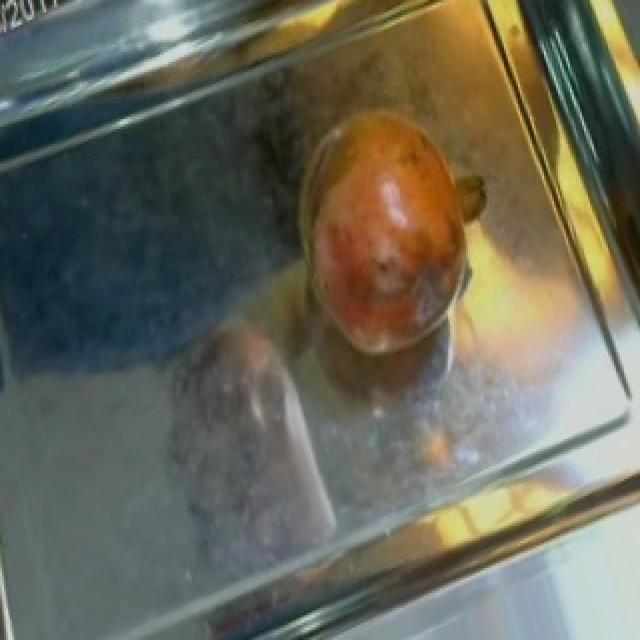fruit: (266, 82, 514, 374)
